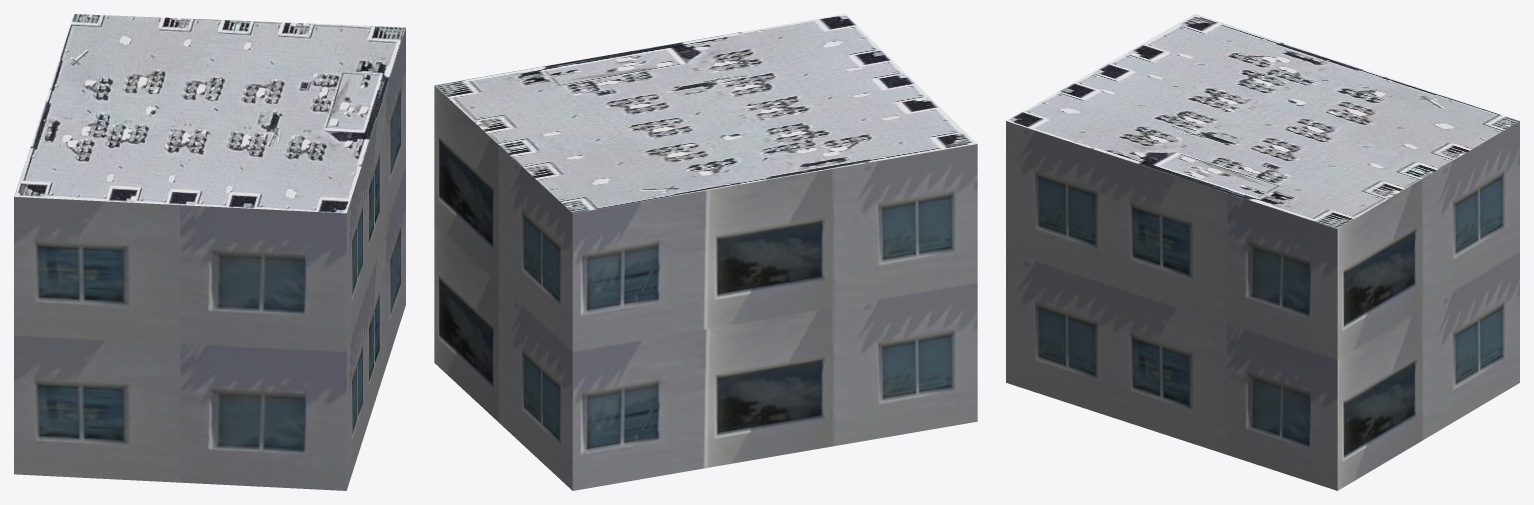
File: ResTex__111.fbx
The picture shows the model from 3 angles, left to right: view 1: azimuth 30°, elevation 25°; view 2: azimuth 150°, elevation 25°; view 3: azimuth 270°, elevation 25°; orthographic projection. The views are drawn at different scales.
Parts seen in each view (by area): view 1: CityEngineMaterial_10_m, CityEngineMaterial_m; view 2: CityEngineMaterial_10_m, CityEngineMaterial_m; view 3: CityEngineMaterial_10_m, CityEngineMaterial_m.
Boxes of the visible parts, bbox=[...] form: CityEngineMaterial_10_m: bbox=[14, 28, 405, 490]; CityEngineMaterial_m: bbox=[14, 14, 405, 213]; CityEngineMaterial_10_m: bbox=[434, 85, 977, 490]; CityEngineMaterial_m: bbox=[435, 14, 976, 213]; CityEngineMaterial_10_m: bbox=[1006, 121, 1519, 490]; CityEngineMaterial_m: bbox=[1006, 14, 1519, 228].
Bounding box in the file's own units: 10.58 × 6 × 10.68.
Materials: 2 (2 with a texture image).
